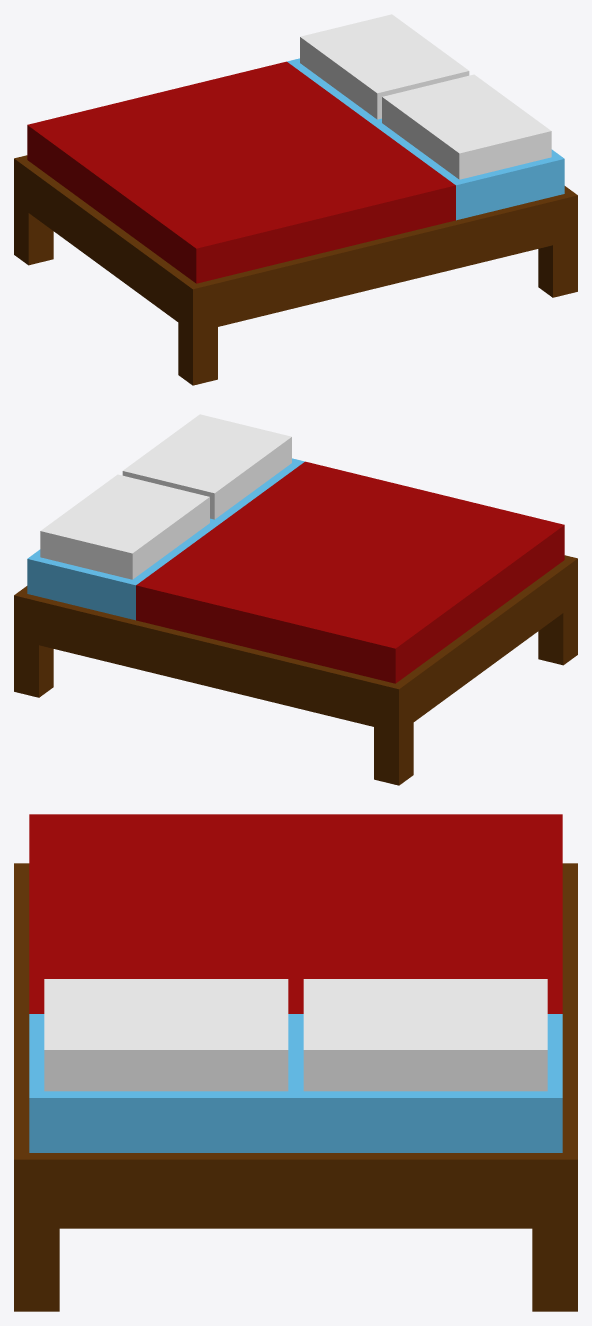
Rendered from bed_wide.obj.
The picture shows the model from 3 angles, top to bottom: view 1: azimuth 30°, elevation 25°; view 2: azimuth 150°, elevation 25°; view 3: azimuth 270°, elevation 25°; orthographic projection. The views are drawn at different scales.
Size of the model in its own units: 4.6 by 1.8 by 3.7.
1 material, 1 textured.
